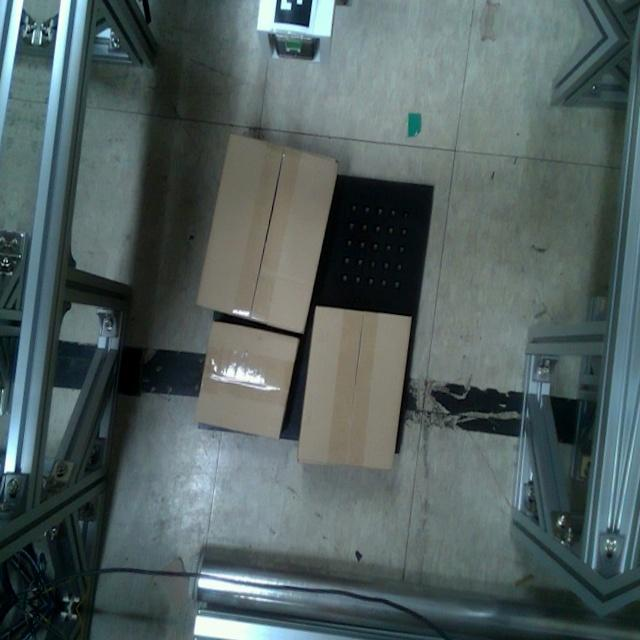box: (188, 124, 347, 339), (289, 299, 419, 477), (189, 317, 303, 443)
